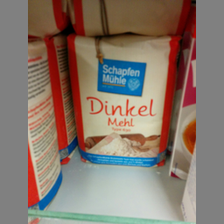flour: (67, 34, 181, 166)
